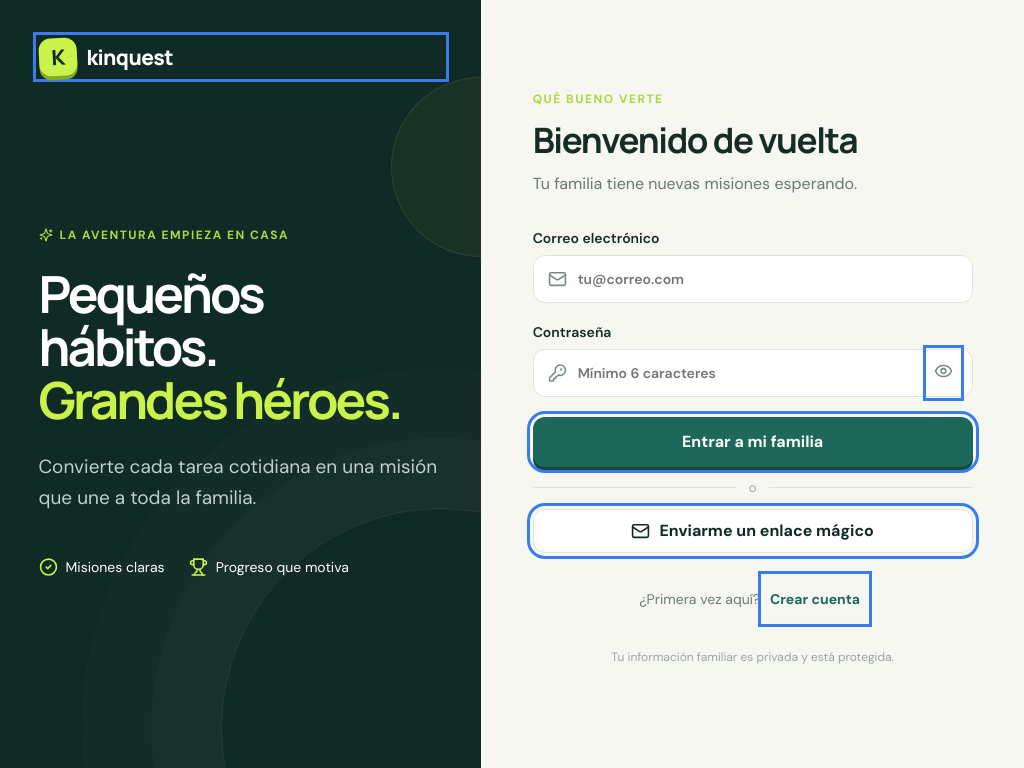
Test: LoginPage › muestra un error genérico para credenciales inválidas
Type "padre@example.com" into the field labelled "Correo electrónico".
click(762, 279); type("padre@example.com")  # box x1=567 y1=256 x2=958 y2=302
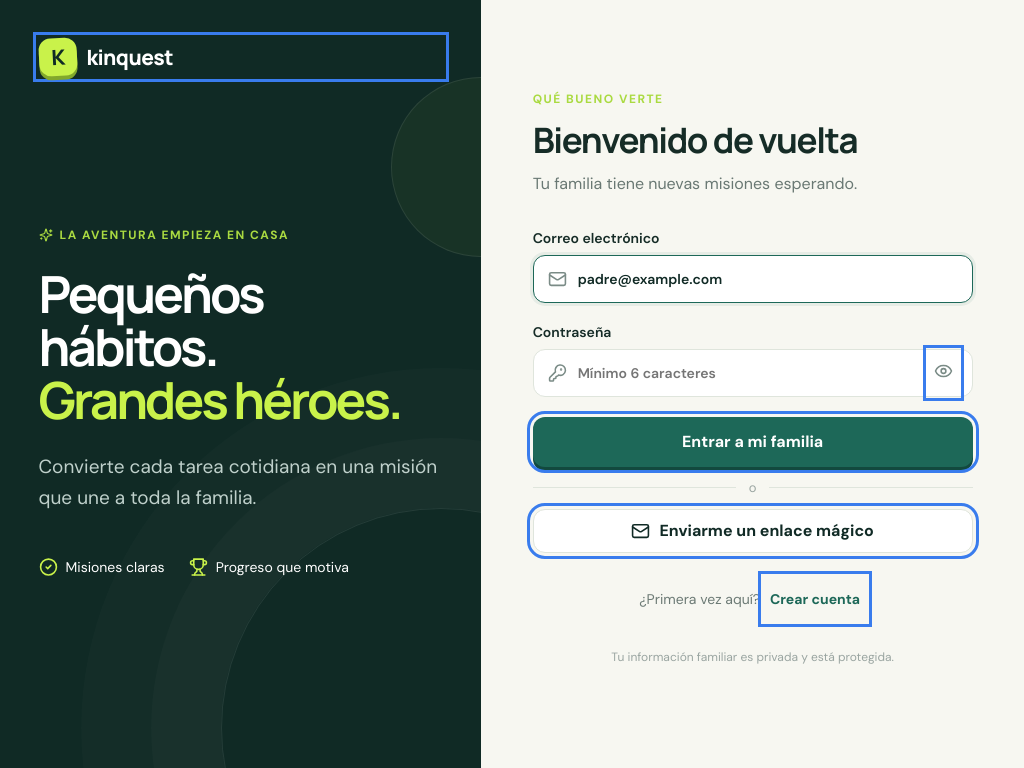
Type "secreto" into the password field labelled "Contraseña".
click(748, 373); type("secreto")  # box x1=567 y1=350 x2=929 y2=396
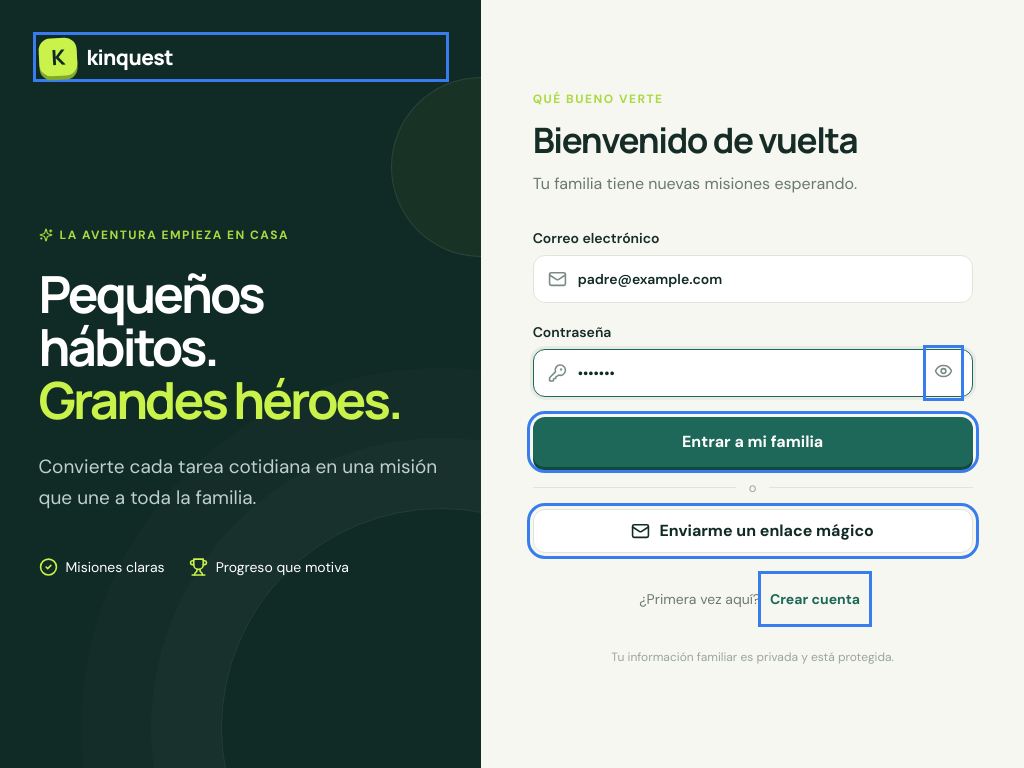
Click the button "Entrar a mi familia".
click(753, 442)  # box x1=533 y1=417 x2=973 y2=467
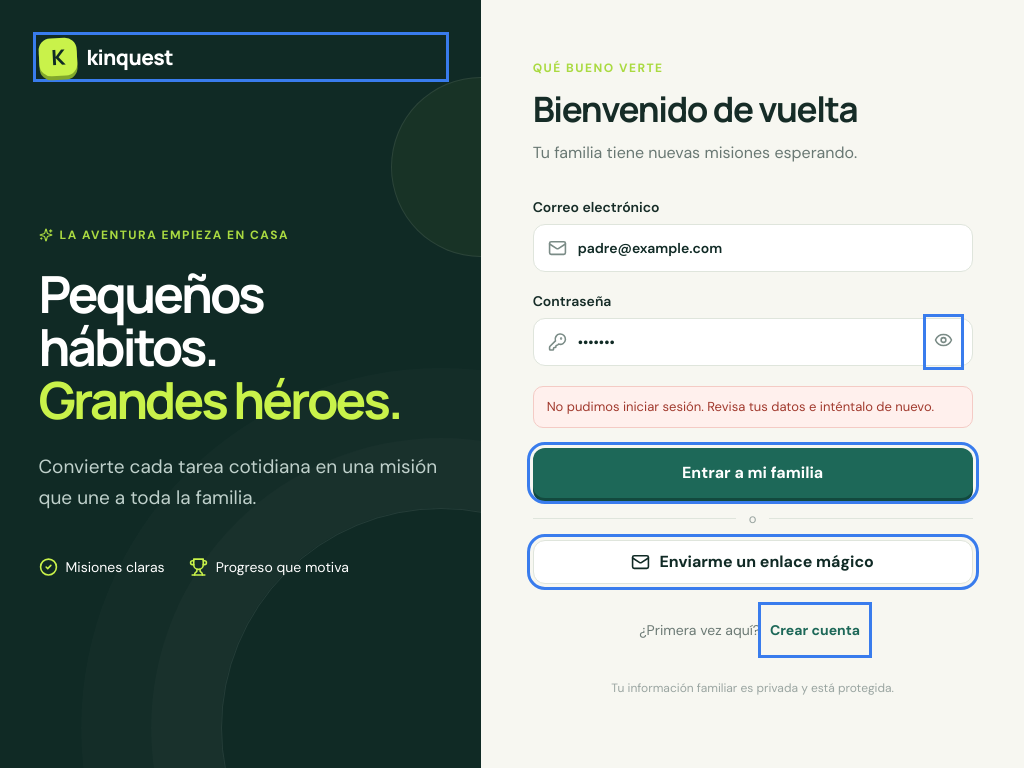
Check: the message shows "No pudimos iniciar sesión", box x1=547 y1=398 x2=934 y2=415
